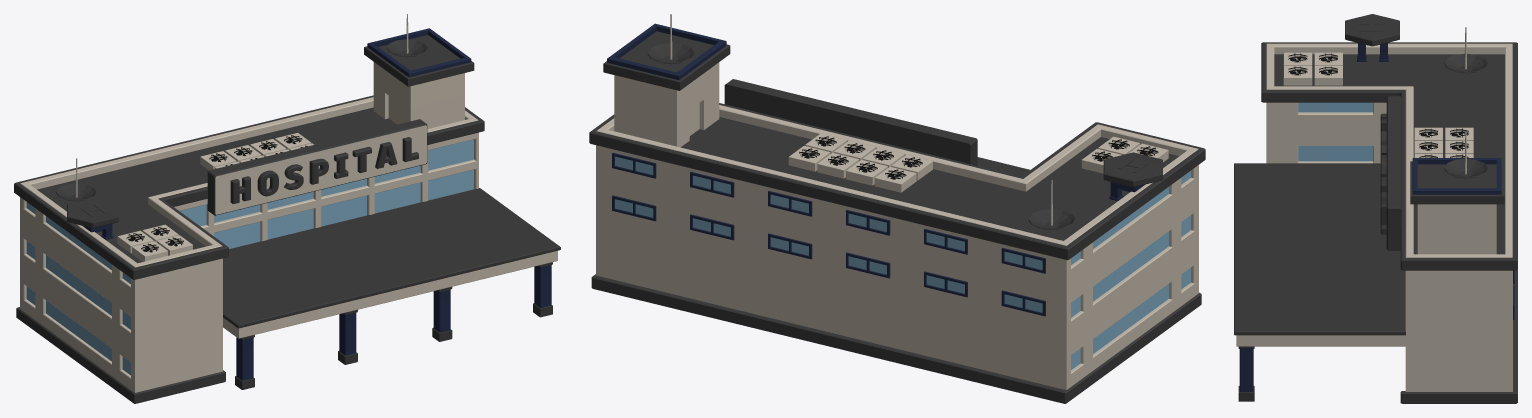
Rendered from Hospital.fbx.
3 renders of one model, left to right at view 1: azimuth 30°, elevation 25°; view 2: azimuth 150°, elevation 25°; view 3: azimuth 270°, elevation 25°, orthographic. The views are drawn at different scales.
Parts seen in each view (by area): view 1: Hospital; view 2: Hospital; view 3: Hospital.
Boxes of the visible parts, left/top/right/bottom form: Hospital: left=14, top=14, right=560, bottom=403; Hospital: left=589, top=14, right=1205, bottom=403; Hospital: left=1234, top=14, right=1517, bottom=403.
Size of the model in its own units: 3681 by 1896 by 1958.
1 material, 1 textured.
